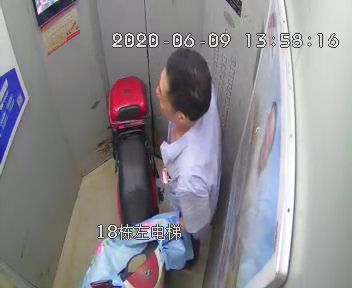Electric-bicycle: (79, 75, 182, 288)
